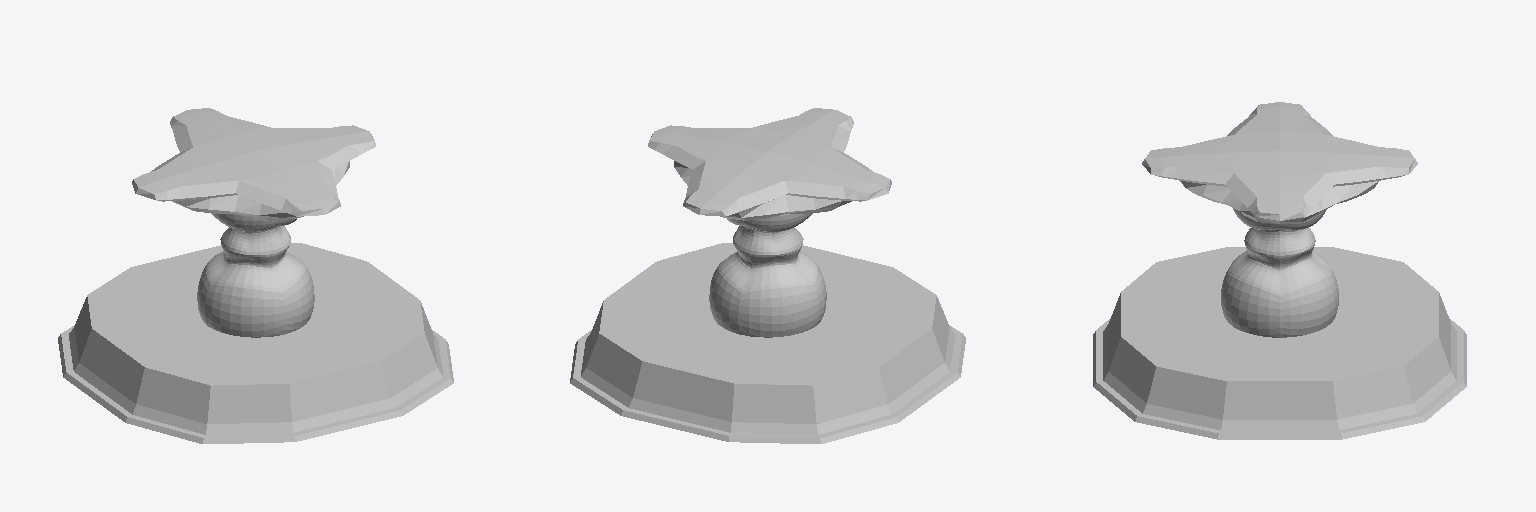
The model's file is Table.obj.
The picture shows the model from 3 angles: view 1: azimuth 30°, elevation 25°; view 2: azimuth 150°, elevation 25°; view 3: azimuth 270°, elevation 25°; orthographic projection.
Visible parts, largest first — view 1: Cube.002_Cube.008; view 2: Cube.002_Cube.008; view 3: Cube.002_Cube.008.
Boxes of the visible parts, x1=… form: Cube.002_Cube.008: x1=58, y1=108, x2=453, y2=443; Cube.002_Cube.008: x1=570, y1=108, x2=965, y2=443; Cube.002_Cube.008: x1=1093, y1=102, x2=1466, y2=439.
Size of the model in its own units: 3.02 by 1.87 by 3.02.